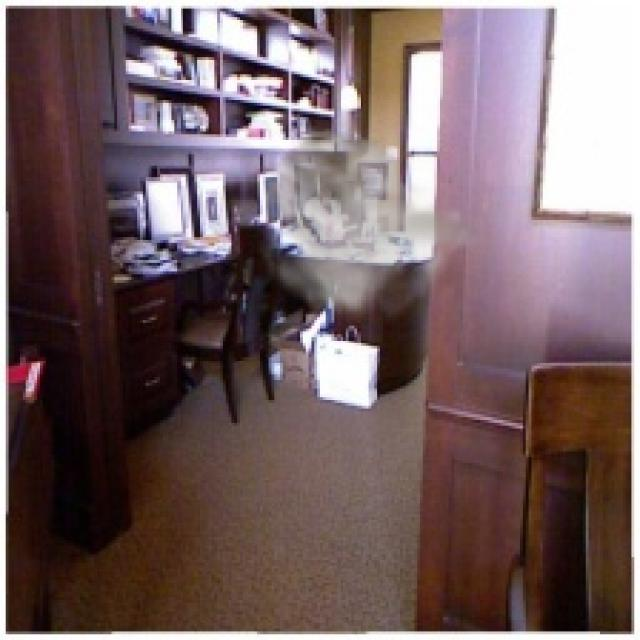smoke: (246, 111, 488, 326)
